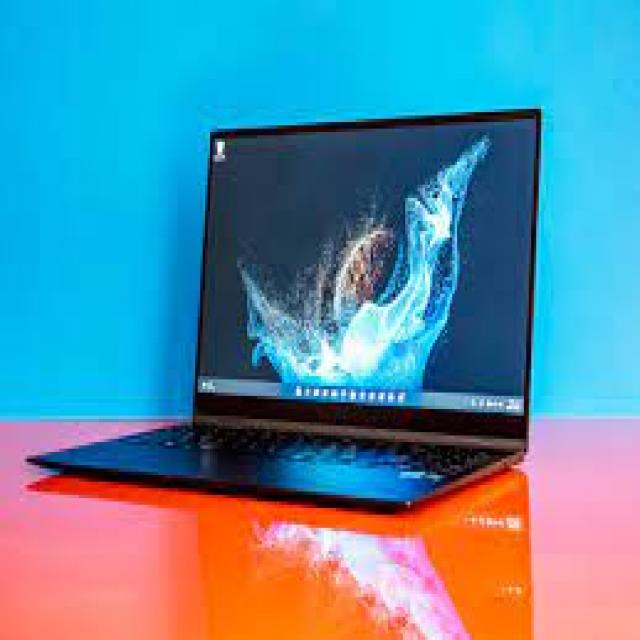others: (7, 92, 561, 518)
